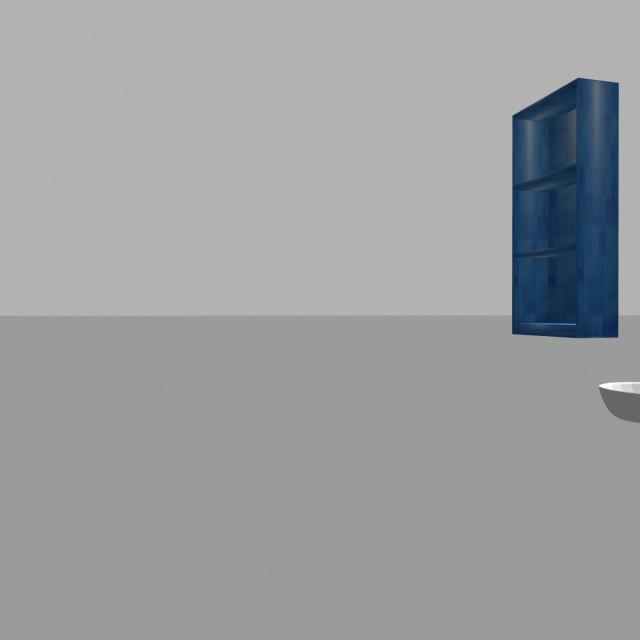bowl: (590, 362, 640, 439)
shelf: (502, 52, 630, 345)
